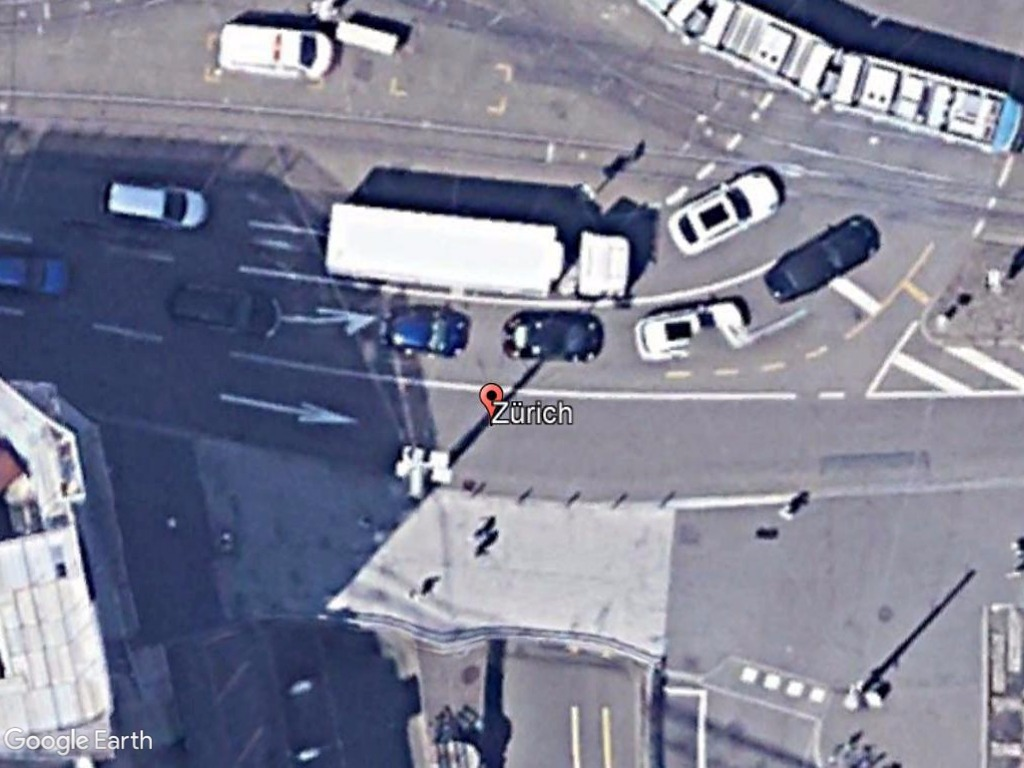car: (664, 165, 790, 259)
truck: (320, 198, 634, 310)
van: (217, 20, 337, 82), (105, 178, 211, 233)
